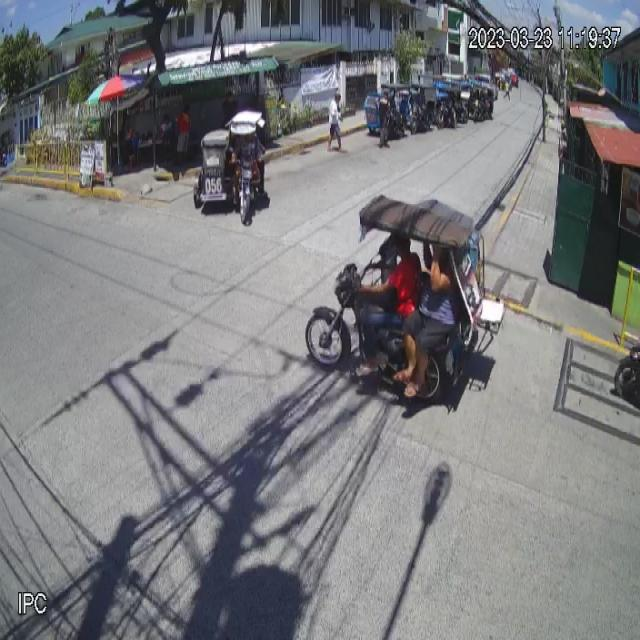Tricycle: (305, 190, 505, 404), (193, 108, 267, 225)
